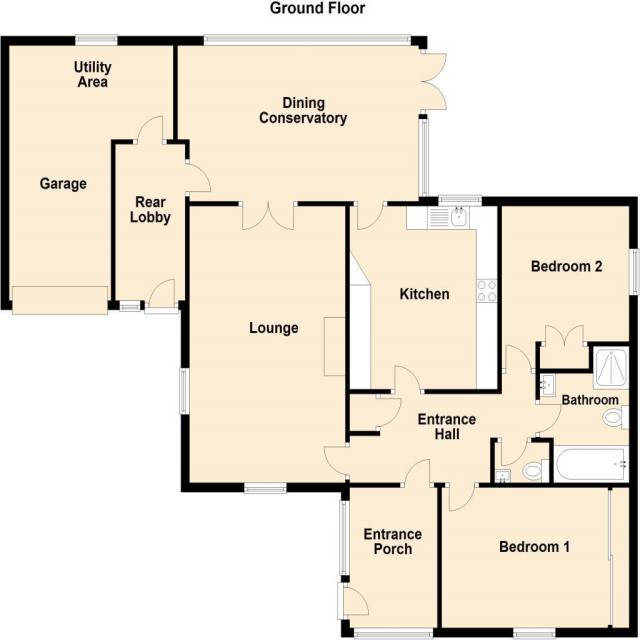DOOR: (419, 48, 450, 114), (241, 199, 295, 232), (336, 581, 370, 621), (144, 278, 180, 315), (389, 363, 426, 395), (132, 114, 168, 145), (399, 458, 436, 488), (444, 482, 480, 512), (352, 201, 388, 231), (496, 437, 532, 467), (185, 158, 212, 198), (535, 399, 562, 438), (323, 441, 350, 480), (501, 344, 536, 374), (119, 299, 141, 313)
ROOM: (172, 34, 448, 231), (180, 201, 351, 493), (437, 482, 639, 640), (344, 194, 502, 394), (497, 196, 640, 374)
SLIDING DOOR: (605, 486, 616, 629)
WINDOW: (202, 33, 412, 47), (352, 626, 434, 640), (338, 499, 351, 577), (417, 117, 429, 198), (178, 366, 192, 417), (242, 480, 289, 495), (437, 194, 483, 208), (628, 247, 640, 297), (74, 34, 119, 47), (512, 627, 556, 640)
